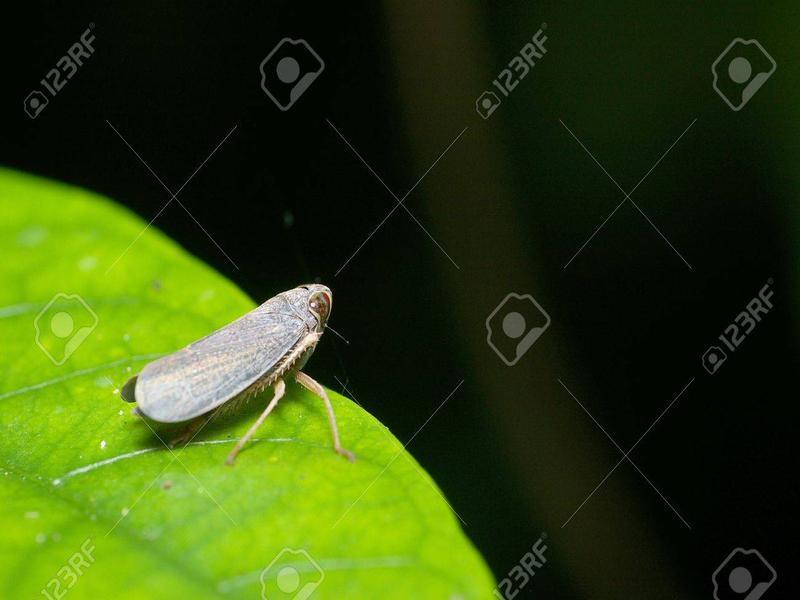Brown_plant_leafhopper: (119, 275, 373, 464)
